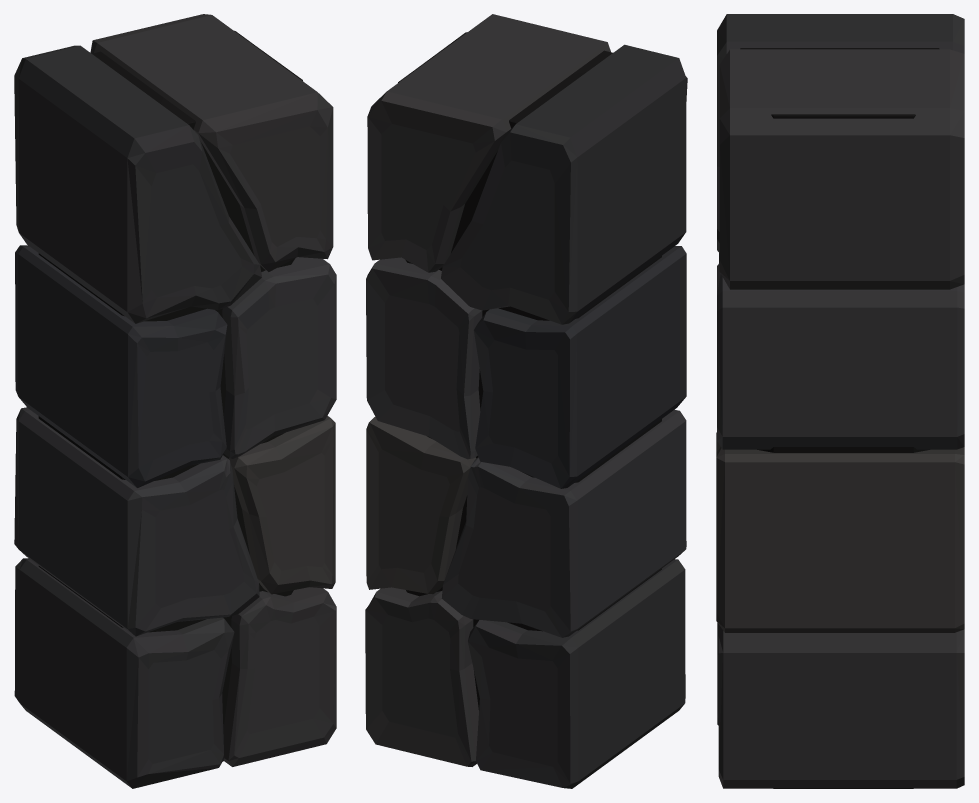
The model's file is Wall_Stone_B.fbx.
3 views of the same model, side by side, from view 1: azimuth 30°, elevation 25°; view 2: azimuth 150°, elevation 25°; view 3: azimuth 270°, elevation 25° (orthographic). The views are drawn at different scales.
Visible parts, largest first — view 1: Wall_Stone_B; view 2: Wall_Stone_B; view 3: Wall_Stone_B.
Boxes of the visible parts, box(x1,y1,x2,y2) form: Wall_Stone_B: box(14, 14, 336, 788); Wall_Stone_B: box(365, 14, 687, 788); Wall_Stone_B: box(716, 14, 964, 788).
Size of the model in its own units: 1 by 3 by 0.9957.
1 material, 1 textured.
